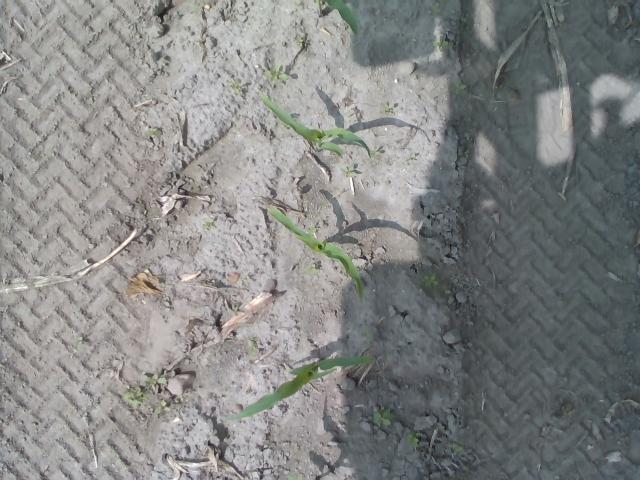Maize: (223, 354, 375, 422), (264, 203, 366, 303), (256, 91, 371, 162), (313, 0, 362, 37)
Weeds: (121, 386, 146, 406), (266, 64, 290, 81), (374, 407, 394, 427), (340, 164, 360, 178), (421, 273, 439, 288), (146, 374, 167, 386), (200, 218, 218, 232), (156, 400, 171, 414), (430, 38, 450, 48), (228, 80, 242, 94), (454, 82, 466, 96), (407, 434, 418, 448), (144, 127, 161, 136), (430, 0, 442, 12), (455, 444, 466, 454), (248, 344, 256, 356), (306, 264, 316, 272), (372, 147, 380, 156), (190, 4, 198, 12), (384, 104, 391, 112)
